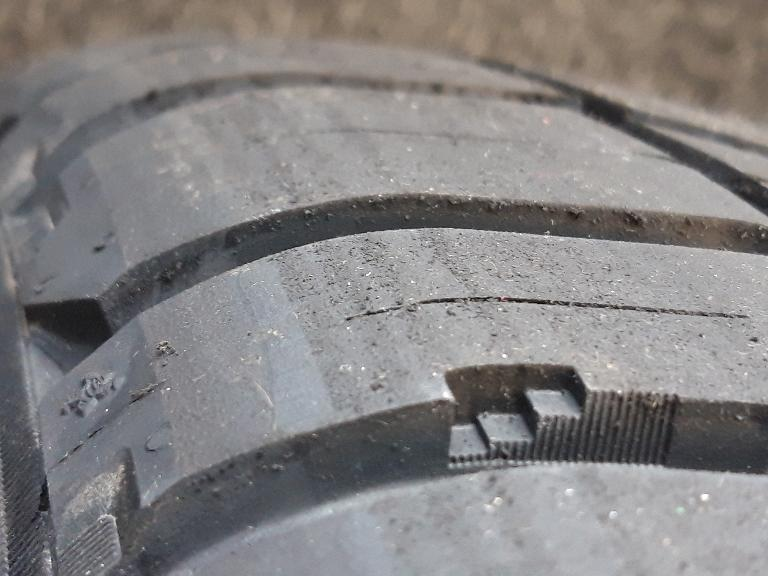temoin:75: (438, 359, 626, 473)
